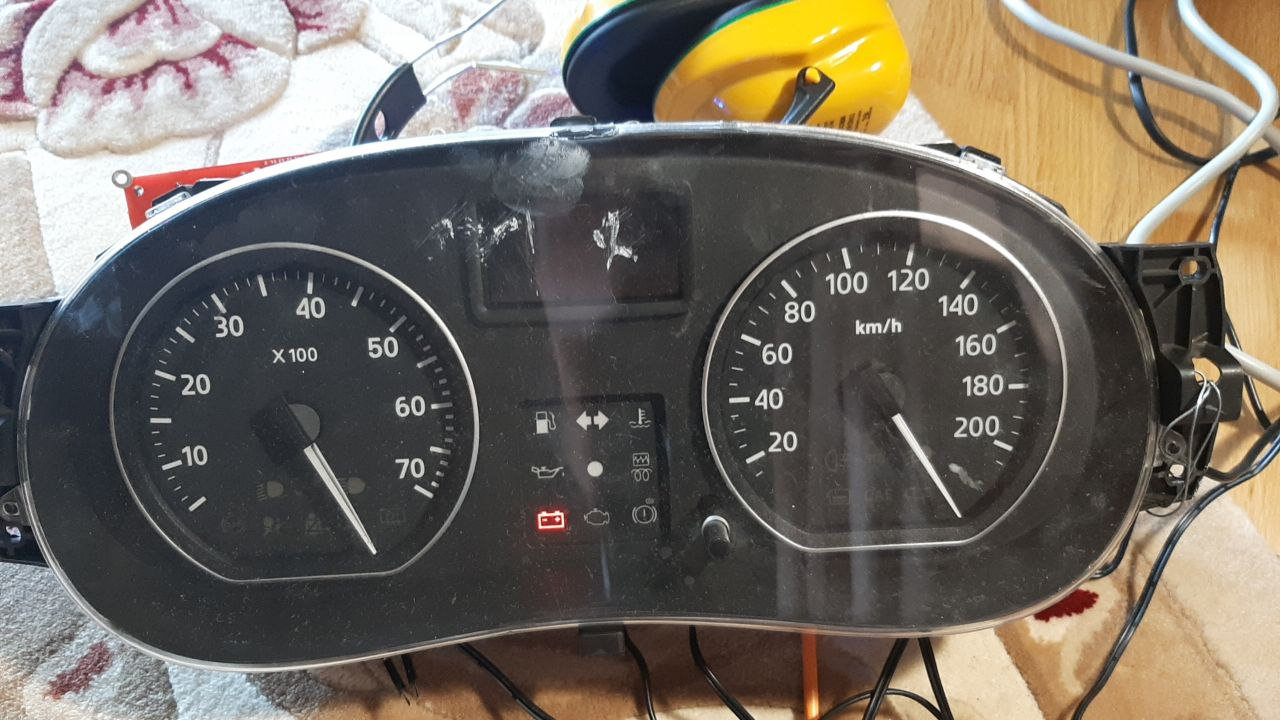accumulator: (530, 507, 573, 534)
